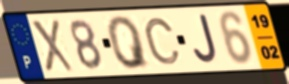6: (218, 9, 255, 68)
8: (69, 18, 104, 72)
C: (142, 16, 182, 67)
J: (192, 13, 219, 66)
Q: (105, 14, 153, 71)
X: (28, 18, 76, 74)
